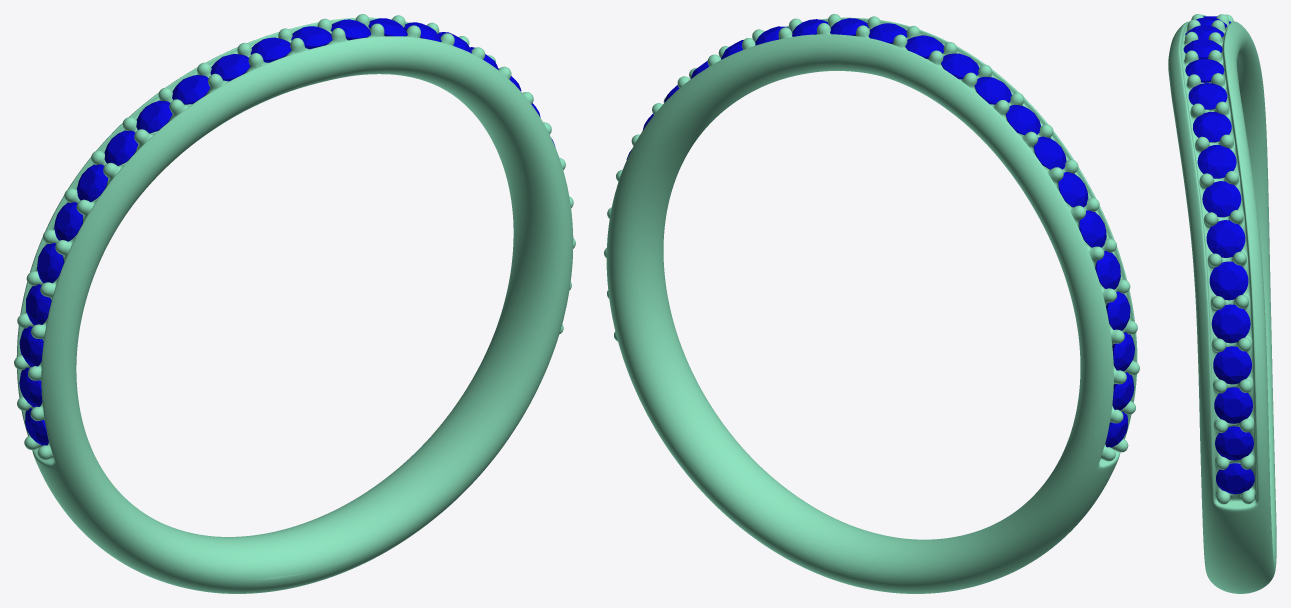
The picture shows the model from 3 angles, left to right: view 1: azimuth 30°, elevation 25°; view 2: azimuth 150°, elevation 25°; view 3: azimuth 270°, elevation 25°; orthographic projection. The views are drawn at different scales.
Parts seen in each view (by area): view 1: Metal03, Diamond_Band.007, Diamond_Band.008, Diamond_Band.006, Diamond_Band.009, Diamond_Band.021, Diamond_Band.005, Diamond_Band.020, Diamond_Band.004, Diamond_Band.019; view 2: Metal03, Diamond_Band.007, Diamond_Band.008, Diamond_Band.006, Diamond_Band.009, Diamond_Band.005, Diamond_Band.021, Diamond_Band.004, Diamond_Band.020; view 3: Metal03, Diamond_Band.014, Diamond_Band.013, Diamond_Band.015, Diamond_Band.012, Diamond_Band.016, Diamond_Band.011, Diamond_Band.017, Diamond_Band.010, Diamond_Band.018, Diamond_Band, Diamond_Band.023 (+3 smaller).
Boxes of the visible parts, bbox=[...] form: Metal03: bbox=[14, 14, 575, 593]; Diamond_Band.007: bbox=[77, 164, 108, 201]; Diamond_Band.008: bbox=[104, 130, 138, 165]; Diamond_Band.006: bbox=[54, 202, 82, 241]; Diamond_Band.009: bbox=[136, 100, 172, 133]; Diamond_Band.021: bbox=[172, 75, 210, 104]; Diamond_Band.005: bbox=[37, 243, 64, 283]; Diamond_Band.020: bbox=[210, 54, 250, 81]; Diamond_Band.004: bbox=[26, 284, 51, 325]; Diamond_Band.019: bbox=[250, 37, 291, 62]; Metal03: bbox=[604, 14, 1139, 593]; Diamond_Band.007: bbox=[1058, 172, 1088, 207]; Diamond_Band.008: bbox=[1033, 136, 1066, 169]; Diamond_Band.006: bbox=[1079, 210, 1106, 247]; Diamond_Band.009: bbox=[1005, 104, 1040, 135]; Diamond_Band.005: bbox=[1095, 251, 1120, 289]; Diamond_Band.021: bbox=[974, 76, 1011, 104]; Diamond_Band.004: bbox=[1106, 291, 1130, 330]; Diamond_Band.020: bbox=[941, 53, 979, 79]; Metal03: bbox=[1168, 14, 1276, 593]; Diamond_Band.014: bbox=[1211, 304, 1250, 343]; Diamond_Band.013: bbox=[1209, 261, 1248, 300]; Diamond_Band.015: bbox=[1213, 346, 1251, 384]; Diamond_Band.012: bbox=[1206, 220, 1245, 257]; Diamond_Band.016: bbox=[1214, 387, 1252, 423]; Diamond_Band.011: bbox=[1202, 181, 1241, 217]; Diamond_Band.017: bbox=[1215, 426, 1253, 460]; Diamond_Band.010: bbox=[1197, 145, 1236, 178]; Diamond_Band.018: bbox=[1216, 463, 1254, 494]; Diamond_Band: bbox=[1193, 111, 1231, 142]; Diamond_Band.023: bbox=[1188, 83, 1227, 109].
Bounding box in the file's own units: 21 × 20.92 × 3.91.
